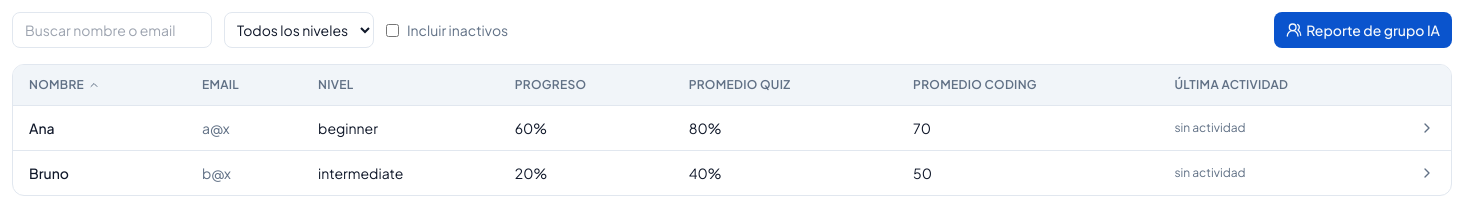
Test: StudentsReportTab › filters by level
The image size is (1464, 213).
expect the button "Ana" is shown: met, box [29,118,55,138]
Step 1. Select "Intermedio" in the dropdown named "Filtrar por nivel" → (299, 30), box [224,12,374,48]
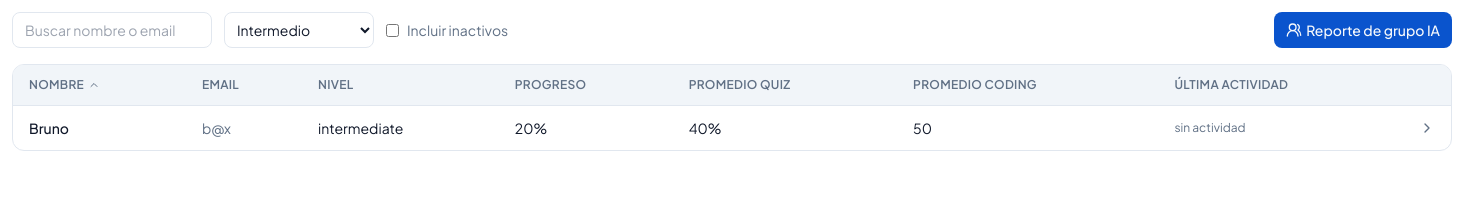
expect the button "Bruno" is shown: met, box [29,118,69,138]
expect the button "Ana" is gone: met
